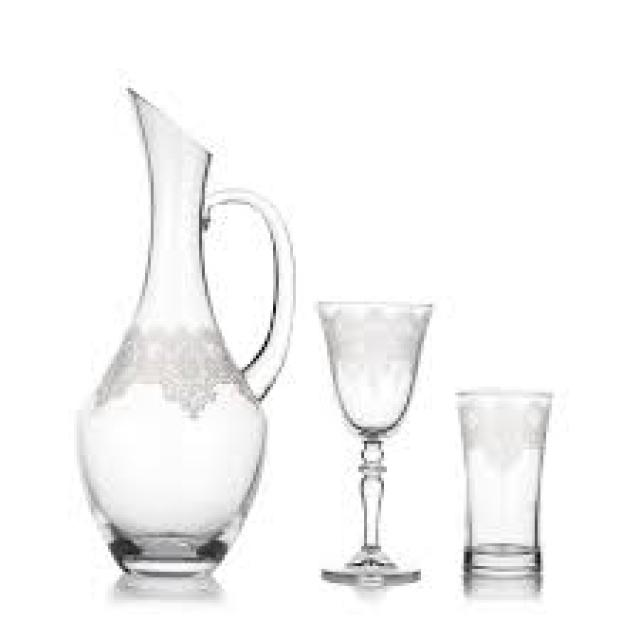Dry: (62, 85, 296, 581), (312, 297, 437, 583), (451, 386, 554, 581)
